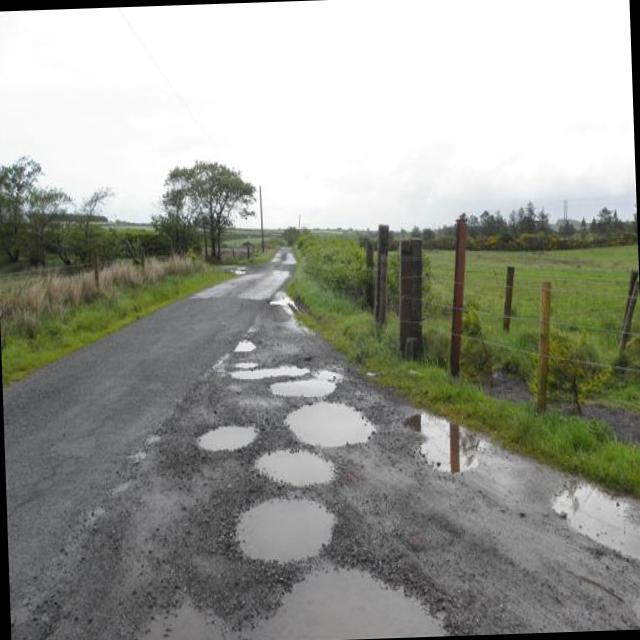Pothole: (124, 556, 541, 640), (541, 461, 640, 632), (382, 397, 511, 488), (210, 492, 377, 560), (214, 353, 377, 412), (254, 442, 350, 505), (266, 276, 342, 354), (284, 401, 388, 449), (190, 420, 290, 468), (227, 330, 300, 368)
